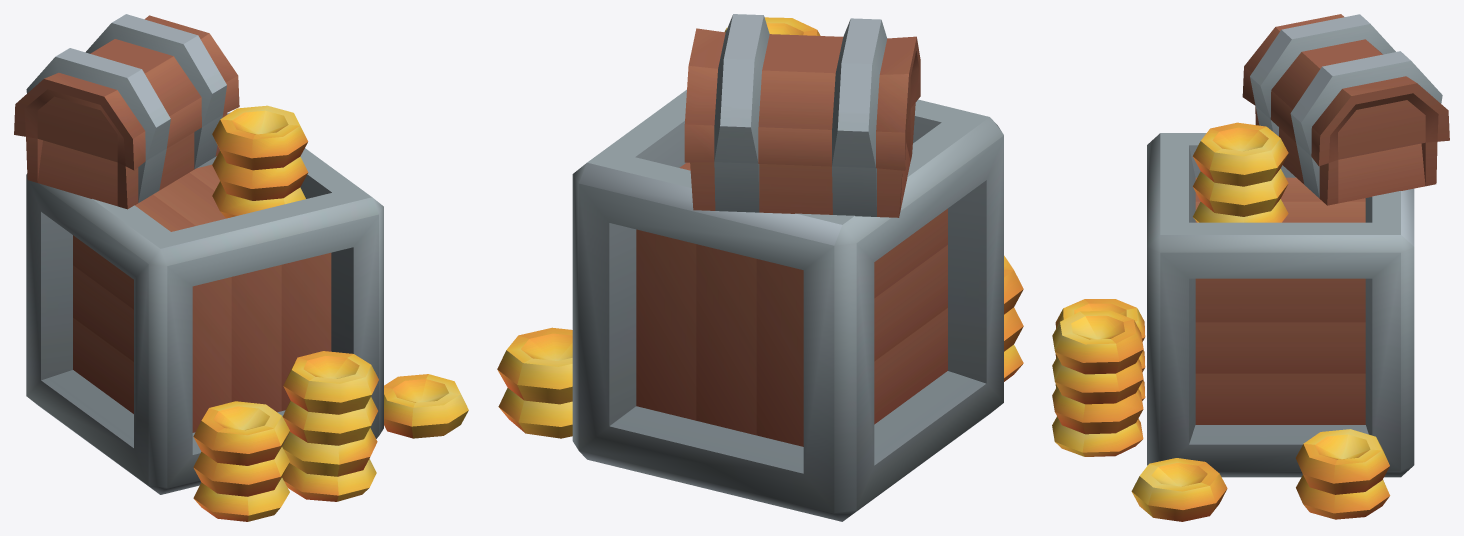
Rendered from box-small-decorated-gltf.glb.
The picture shows the model from 3 angles, left to right: view 1: azimuth 30°, elevation 25°; view 2: azimuth 150°, elevation 25°; view 3: azimuth 270°, elevation 25°; orthographic projection. The views are drawn at different scales.
Visible parts, largest first — view 1: box_small_decorated; view 2: box_small_decorated; view 3: box_small_decorated.
Part boxes in pixels (x1,y1,x2,y2): box_small_decorated: (14,14,468,521); box_small_decorated: (497,14,1023,521); box_small_decorated: (1052,14,1449,521).
Size of the model in its own units: 1.49 by 1.48 by 1.49.
1 material, 1 textured.
